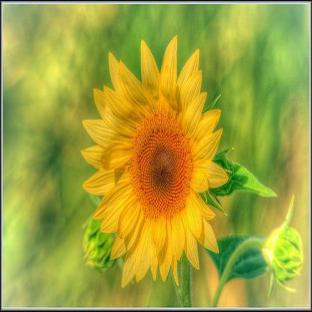sunflower: (80, 37, 276, 308)
